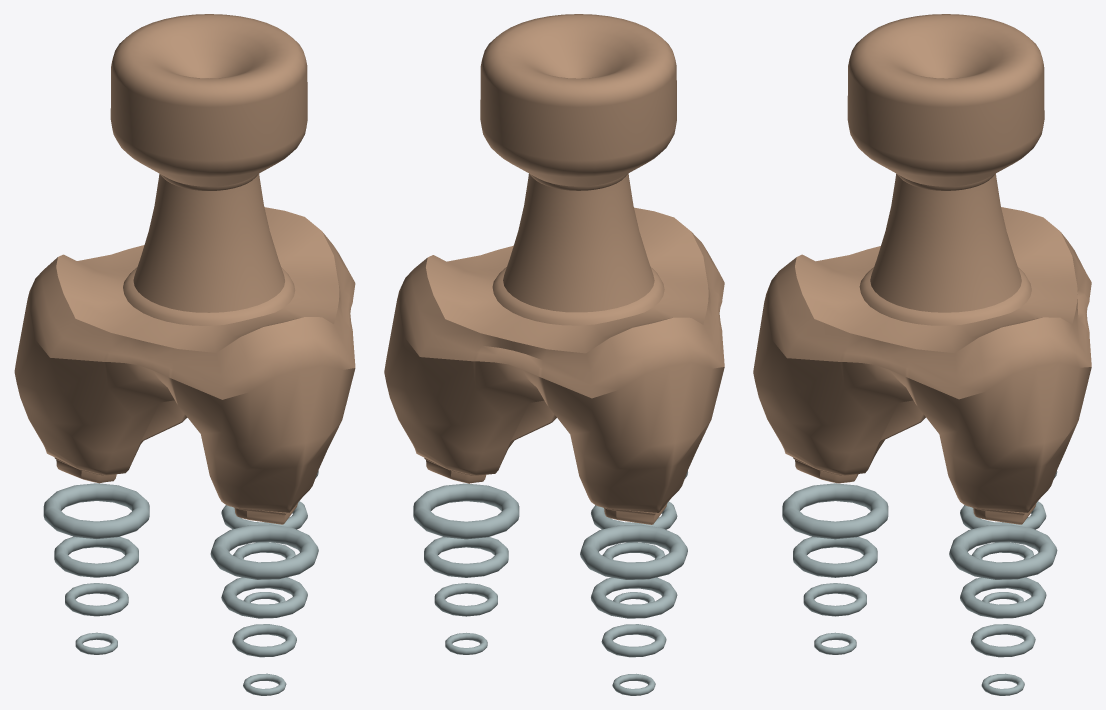
File: Tampon_Model01.fbx
The picture shows the model from 3 angles, left to right: view 1: azimuth 30°, elevation 25°; view 2: azimuth 150°, elevation 25°; view 3: azimuth 270°, elevation 25°; orthographic projection.
Parts seen in each view (by area): view 1: Tampon2; view 2: Tampon2; view 3: Tampon2.
Part boxes in pixels (x1,y1,x2,y2): Tampon2: [14, 14, 355, 695]; Tampon2: [384, 14, 724, 695]; Tampon2: [753, 14, 1091, 695].
Size of the model in its own units: 5.05 by 9.22 by 4.73.
